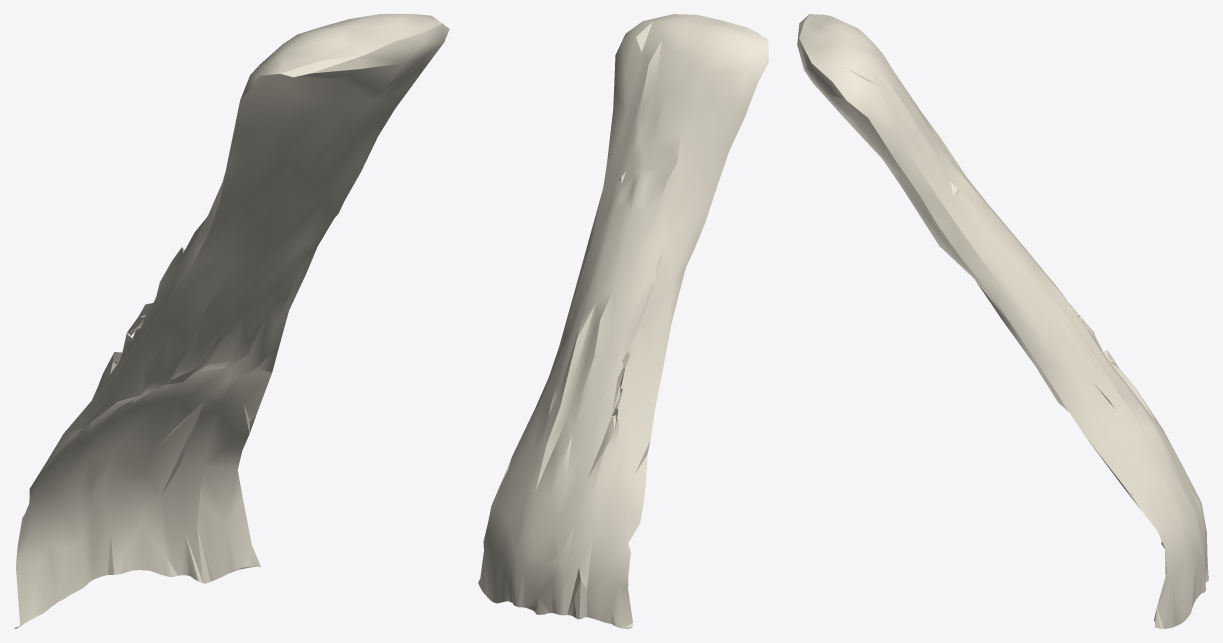
The model's file is fma25019_mm1519.glb.
3 renders of one model, left to right at view 1: azimuth 30°, elevation 25°; view 2: azimuth 150°, elevation 25°; view 3: azimuth 270°, elevation 25°, orthographic. The views are drawn at different scales.
Parts seen in each view (by area): view 1: FMA25019_MM1519; view 2: FMA25019_MM1519; view 3: FMA25019_MM1519.
Boxes of the visible parts, left/top/right/bottom form: FMA25019_MM1519: left=14, top=14, right=449, bottom=628; FMA25019_MM1519: left=478, top=14, right=768, bottom=628; FMA25019_MM1519: left=797, top=14, right=1208, bottom=628.
Size of the model in its own units: 0.00613 by 0.018 by 0.0121.
